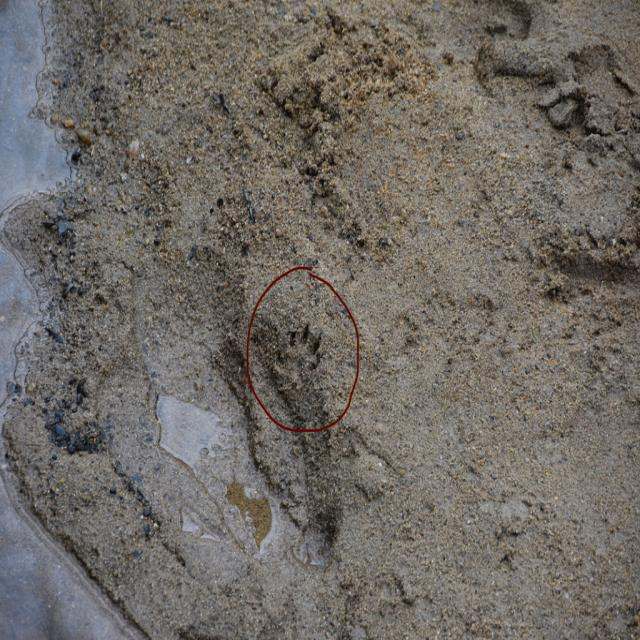mustelid: (277, 321, 322, 387)
